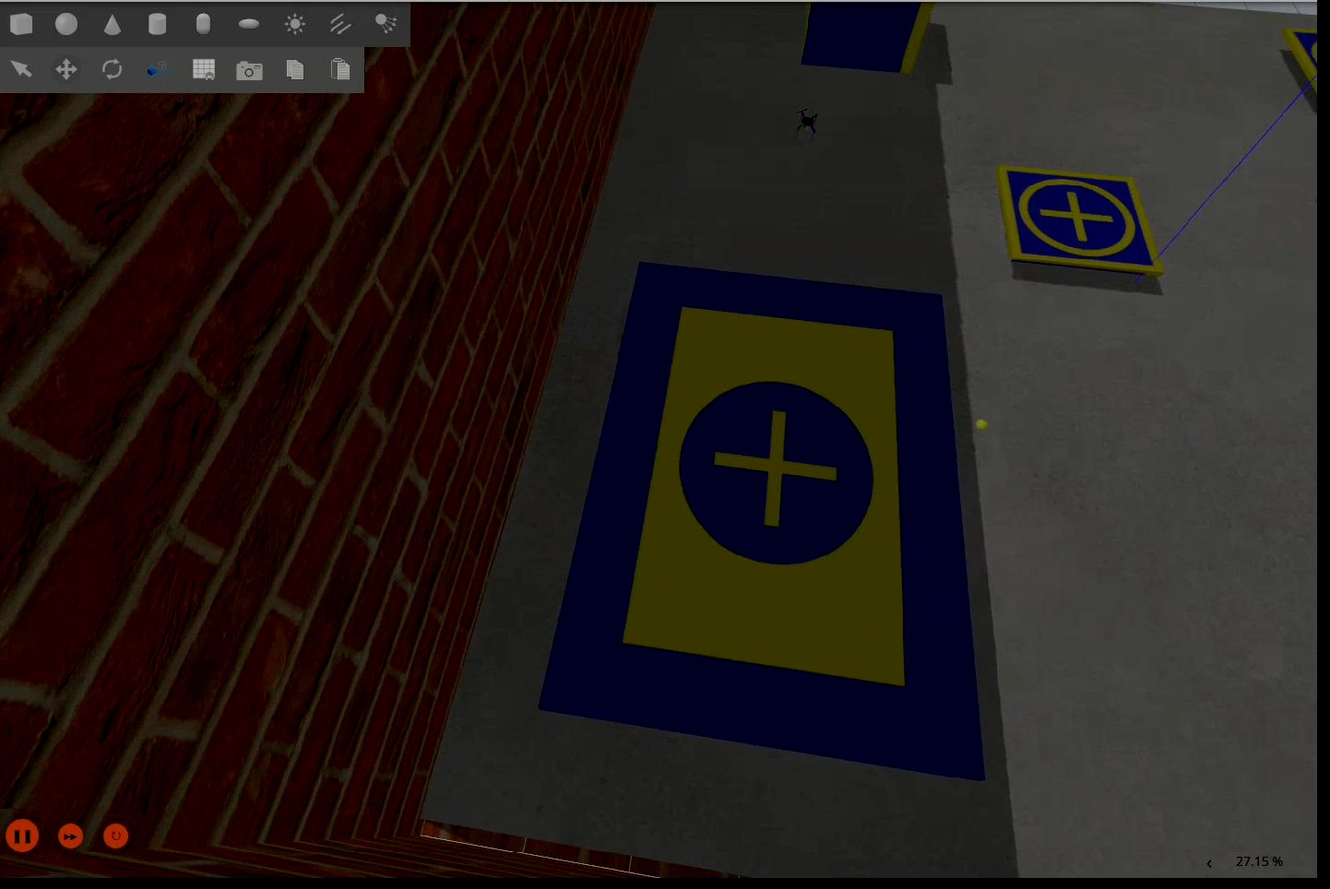large_base: (540, 258, 988, 784)
small_base: (1000, 160, 1168, 277)
